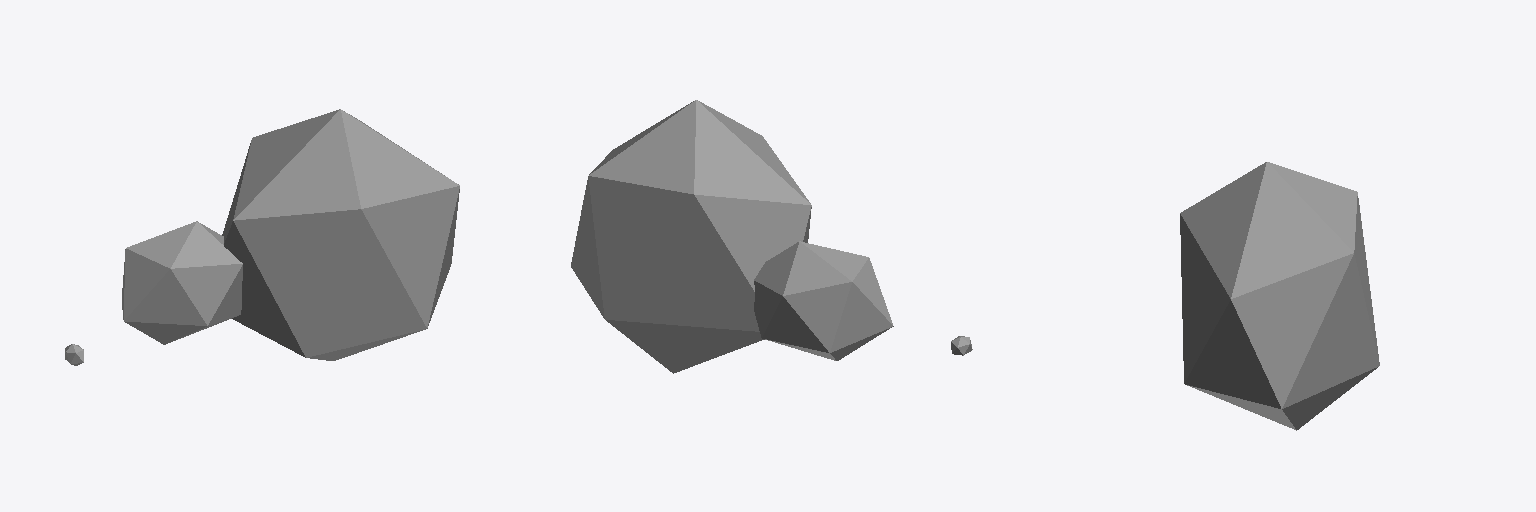
Rendered from Cloud1.obj.
3 views of the same model, side by side, from view 1: azimuth 30°, elevation 25°; view 2: azimuth 150°, elevation 25°; view 3: azimuth 270°, elevation 25° (orthographic).
Parts seen in each view (by area): view 1: Icosphere.003_Icosphere.022; view 2: Icosphere.003_Icosphere.022; view 3: Icosphere.003_Icosphere.022.
Part boxes in pixels (x1,y1,x2,y2): Icosphere.003_Icosphere.022: (65,109,459,365); Icosphere.003_Icosphere.022: (571,100,972,373); Icosphere.003_Icosphere.022: (1180,162,1379,430).
Size of the model in its own units: 4.9 by 3.16 by 2.16.